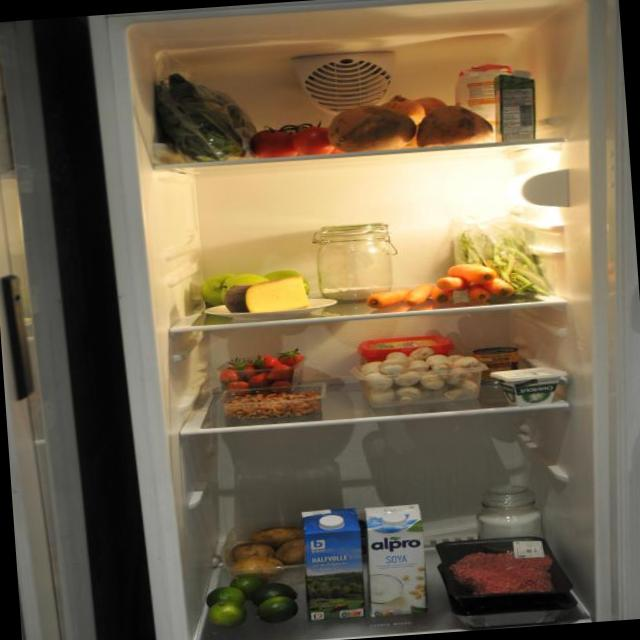Champiñones: (349, 348, 483, 409)
Gambas/Langostinos: (219, 384, 327, 424)
Leche: (290, 504, 372, 626), (362, 498, 438, 620)
Mantequilla: (355, 326, 462, 361)
Manzana: (194, 261, 310, 307)
Patata: (218, 516, 308, 578)
Queso: (222, 272, 314, 318)
Tomate: (245, 118, 348, 158)
Zanahoria: (363, 258, 518, 312)
